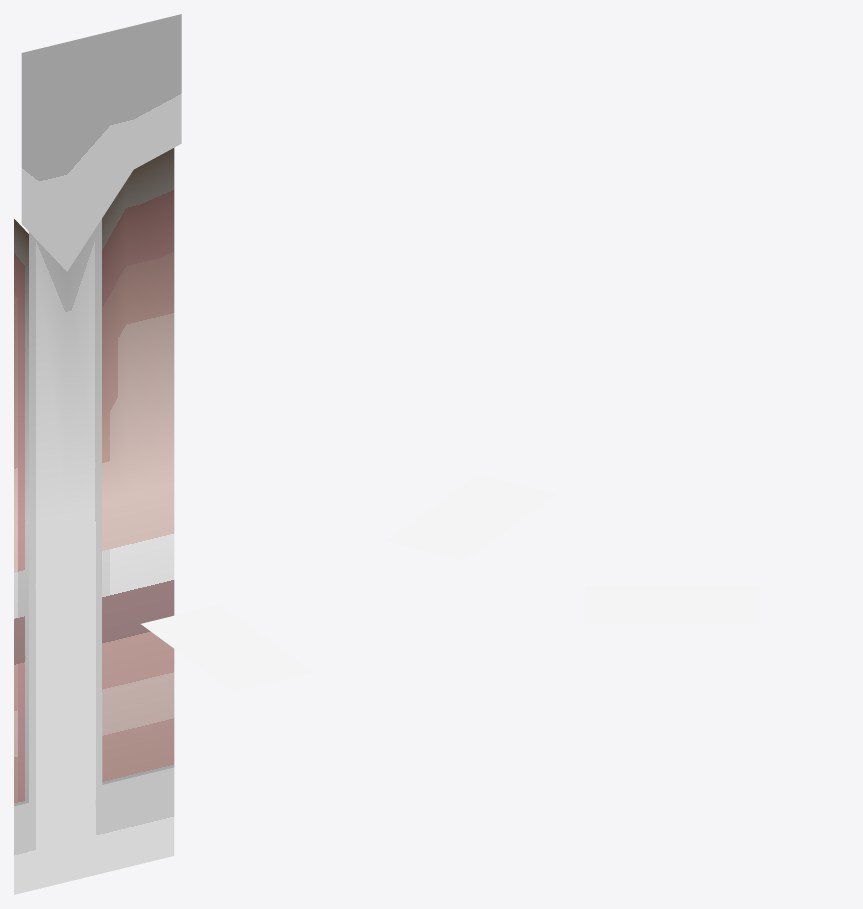
3 views of the same model, side by side, from view 1: azimuth 30°, elevation 25°; view 2: azimuth 150°, elevation 25°; view 3: azimuth 270°, elevation 25° (orthographic). The views are drawn at different scales.
Size of the model in its own units: 1 by 5.06 by 1.5.
Materials: 2 (2 with a texture image).
